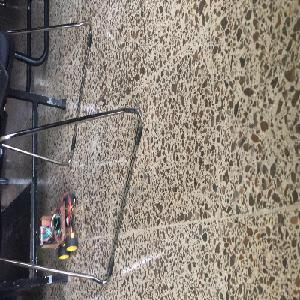Robot: (40, 195, 76, 259)
